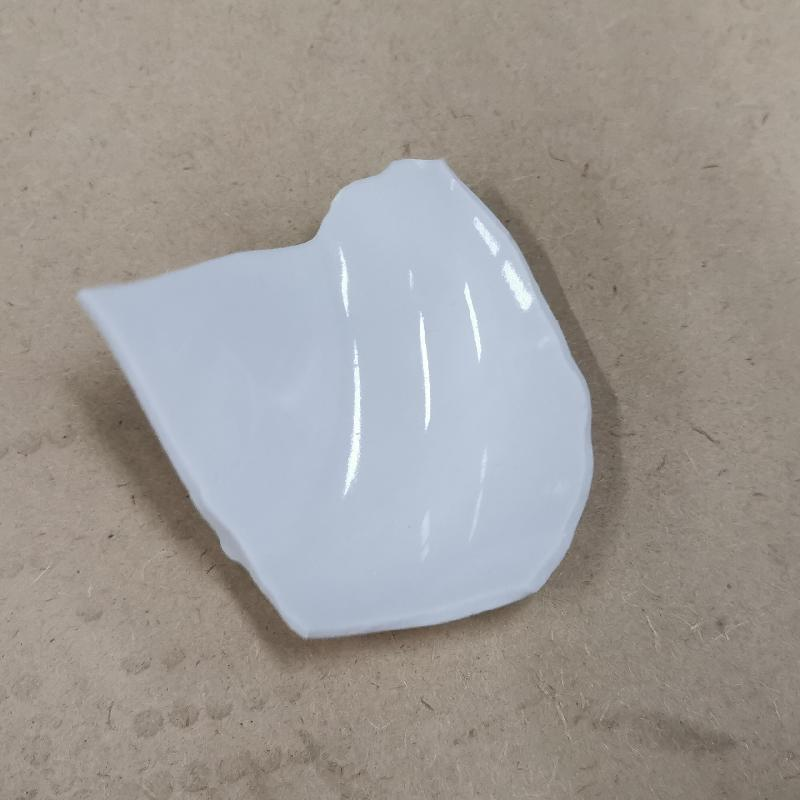ceram: (79, 155, 594, 650)
